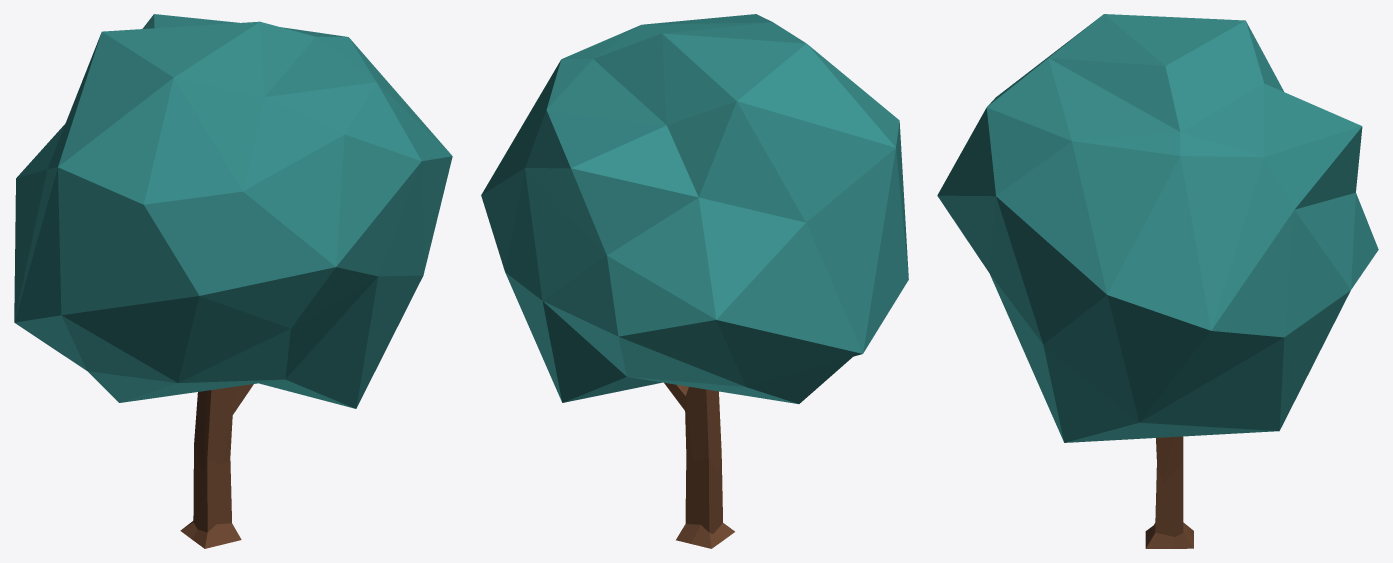
File: Tree_13_Blue.fbx
The picture shows the model from 3 angles, left to right: view 1: azimuth 30°, elevation 25°; view 2: azimuth 150°, elevation 25°; view 3: azimuth 270°, elevation 25°; orthographic projection. The views are drawn at different scales.
Parts seen in each view (by area): view 1: Tree_13_Blue_Part_1, Tree_13_Blue_Part_2; view 2: Tree_13_Blue_Part_1, Tree_13_Blue_Part_2; view 3: Tree_13_Blue_Part_1, Tree_13_Blue_Part_2.
Part boxes in pixels (x1=…): Tree_13_Blue_Part_1: x1=14, y1=14, x2=452, y2=408; Tree_13_Blue_Part_2: x1=180, y1=384, x2=253, y2=548; Tree_13_Blue_Part_1: x1=481, y1=14, x2=908, y2=403; Tree_13_Blue_Part_2: x1=664, y1=382, x2=734, y2=548; Tree_13_Blue_Part_1: x1=937, y1=14, x2=1378, y2=442; Tree_13_Blue_Part_2: x1=1145, y1=436, x2=1193, y2=548.
Bounding box in the file's own units: 643 × 796 × 641.
